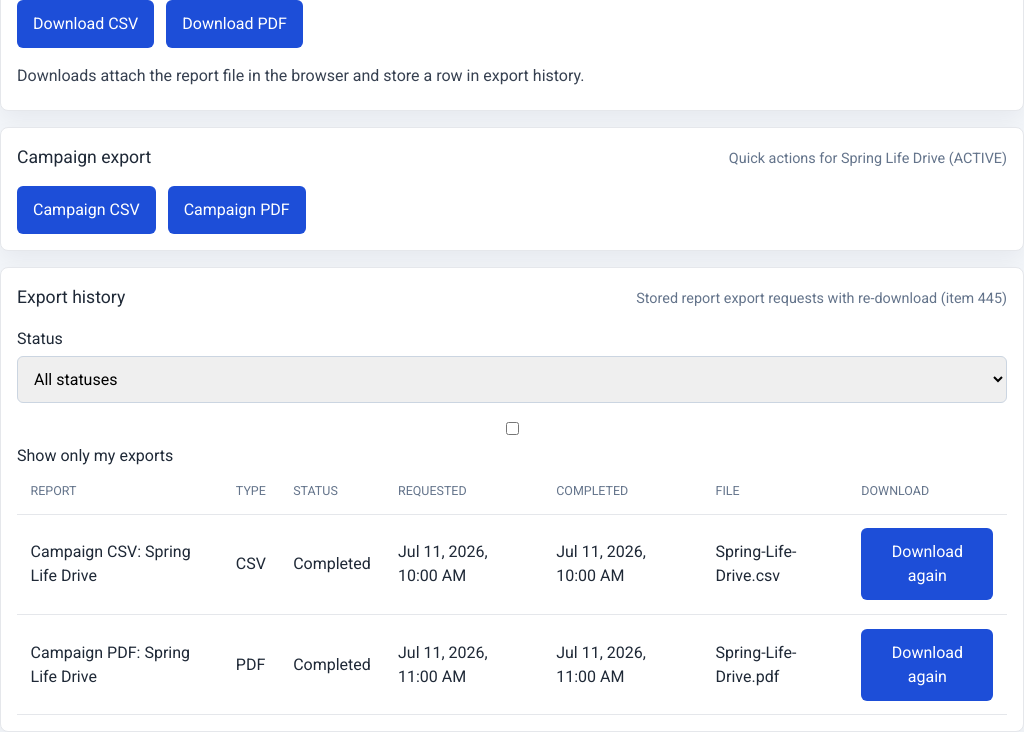
Test: ReportsPage (items 442 / 445) › re-downloads a completed export from history (item 445)
This screenshot has width=1024, height=732.
(page scrolled)
Click the button with aria-label "Re-download CSV report Campaign CSV: Spring Life Drive" at (927, 564), box [861,528,993,600]
(page scrolled)
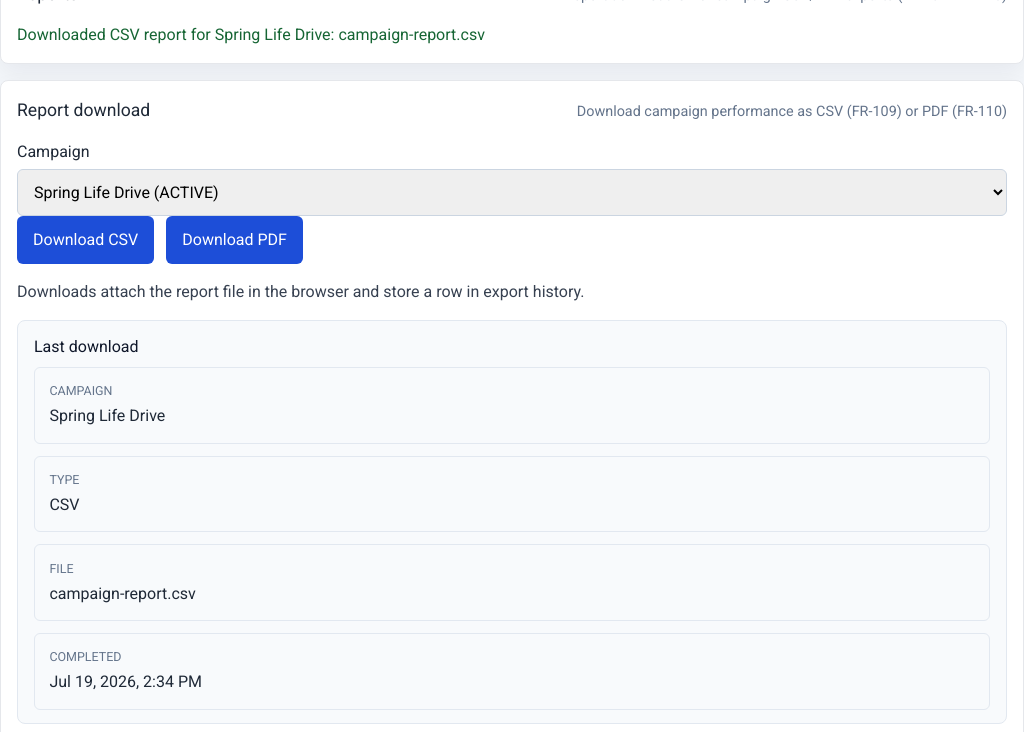
Expected: the text "Downloaded CSV report for Spring Life Drive: campaign-report.csv" is shown, [17,25,485,44]
